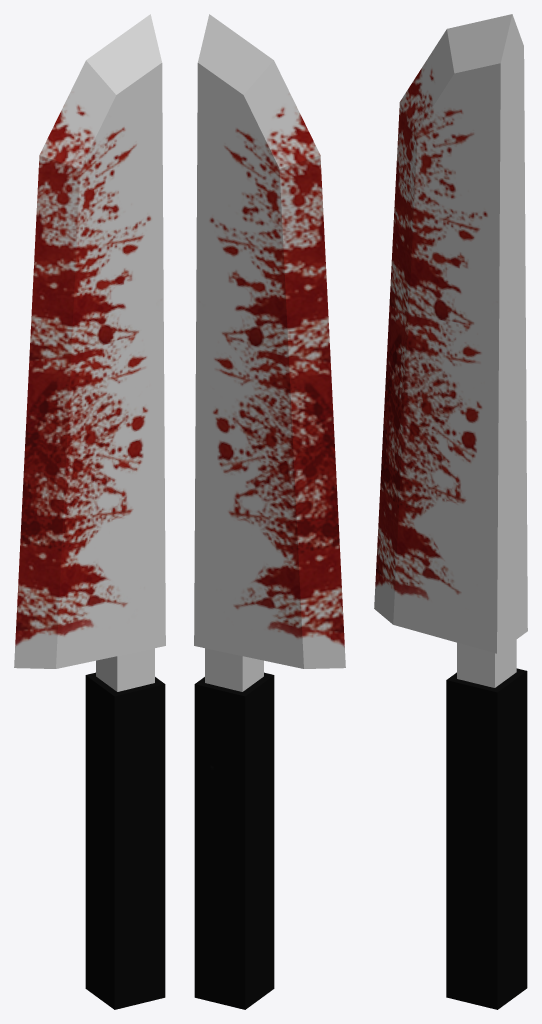
File: kitchenKnife3_PLY.fbx
3 views of the same model, side by side, from view 1: azimuth 30°, elevation 25°; view 2: azimuth 150°, elevation 25°; view 3: azimuth 330°, elevation 25° (orthographic).
Parts seen in each view (by area): view 1: kitchenKnife3_PLY; view 2: kitchenKnife3_PLY; view 3: kitchenKnife3_PLY.
Boxes of the visible parts, <box> form: kitchenKnife3_PLY: <box>14,14,165,1009</box>; kitchenKnife3_PLY: <box>194,14,345,1009</box>; kitchenKnife3_PLY: <box>374,14,527,1009</box>.
Size of the model in its own units: 0.2009 by 1.37 by 0.0776.
